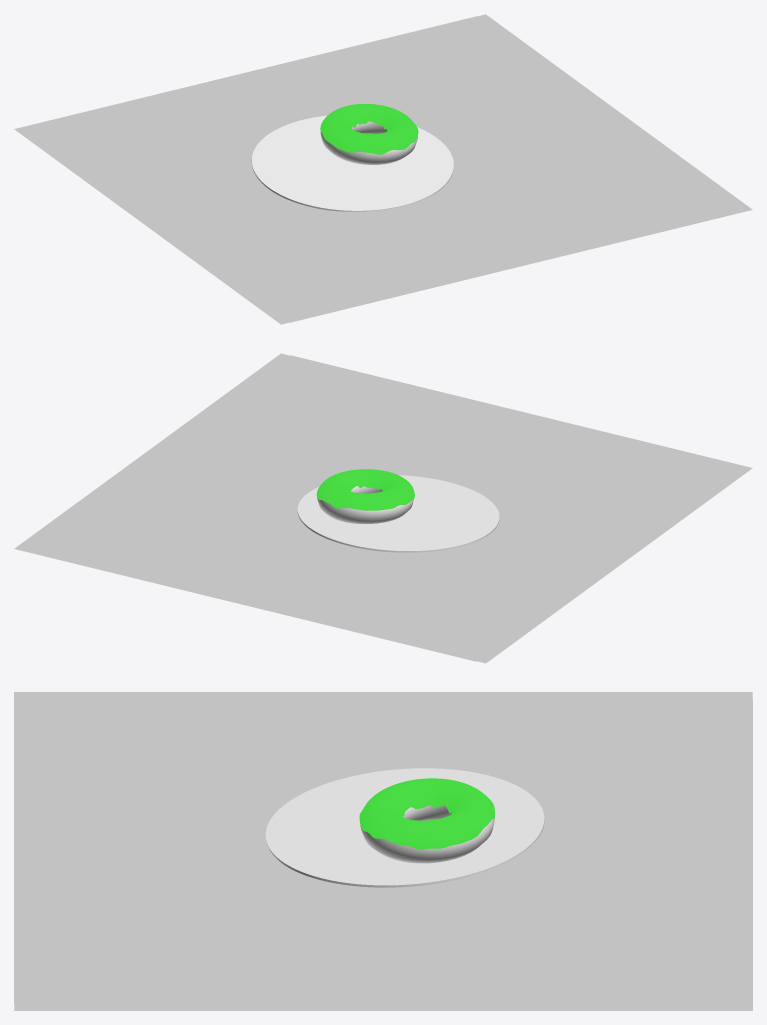
File: radioPonchik.glb
3 views of the same model, one above another, from view 1: azimuth 30°, elevation 25°; view 2: azimuth 150°, elevation 25°; view 3: azimuth 270°, elevation 25° (orthographic). The views are drawn at different scales.
Visible parts, largest first — view 1: Plane.002, Circle, Torus.005, Plane, Torus.004; view 2: Plane.002, Circle, Torus.005, Plane, Torus.004; view 3: Plane.002, Circle, Torus.005, Plane, Torus.004.
Part boxes in pixels (x1,y1,x2,y2): Plane.002: (14,16,743,324); Circle: (251,115,453,211); Torus.005: (320,104,418,154); Plane: (290,14,752,322); Torus.004: (320,121,417,164); Plane.002: (24,355,752,663); Circle: (297,475,499,552); Torus.005: (316,469,414,510); Plane: (14,353,476,661); Torus.004: (317,486,414,524); Plane.002: (14,692,752,1003); Circle: (265,768,544,887); Torus.005: (359,778,494,849); Plane: (14,699,752,1010); Torus.004: (360,805,494,863).
Size of the model in its own units: 16.27 by 1.32 by 15.96.
